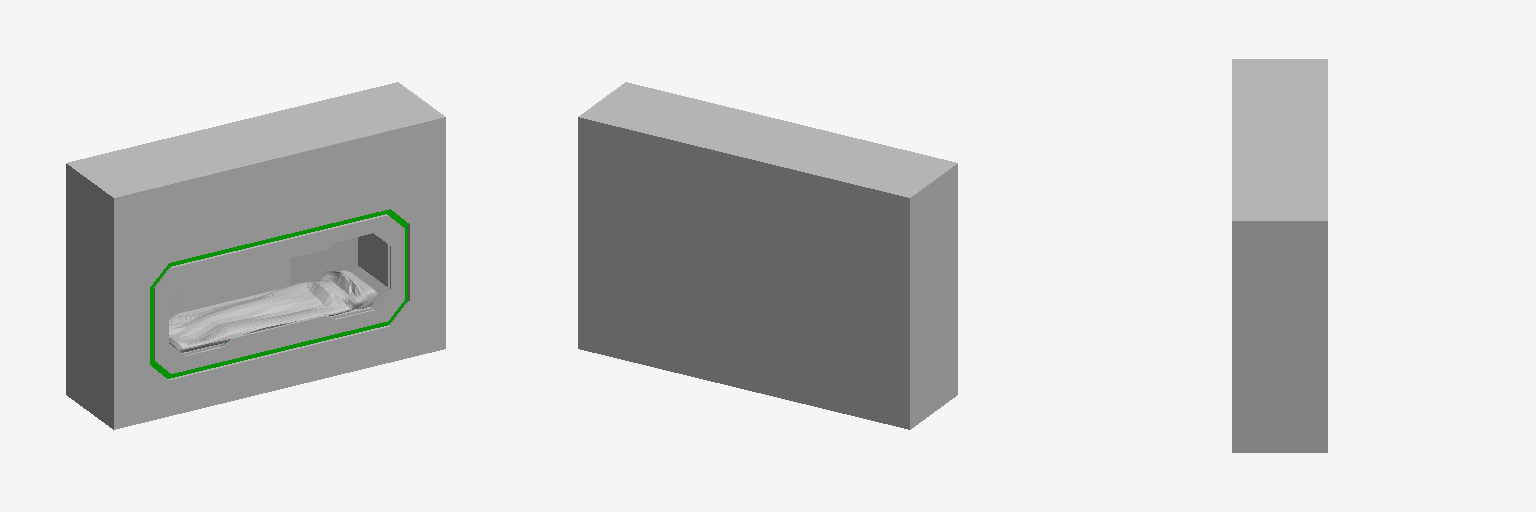
File: Bed.obj
3 views of the same model, side by side, from view 1: azimuth 30°, elevation 25°; view 2: azimuth 150°, elevation 25°; view 3: azimuth 270°, elevation 25° (orthographic).
Visible parts, largest first — view 1: Cube.007_Cube.056; view 2: Cube.007_Cube.056; view 3: Cube.007_Cube.056.
Part boxes in pixels (bbox=[...]): Cube.007_Cube.056: bbox=[66, 82, 445, 429]; Cube.007_Cube.056: bbox=[578, 82, 957, 429]; Cube.007_Cube.056: bbox=[1232, 59, 1327, 452].
Bounding box in the file's own units: 6 × 4 × 1.5.